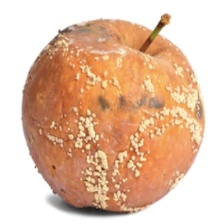apple: (49, 0, 187, 195)
